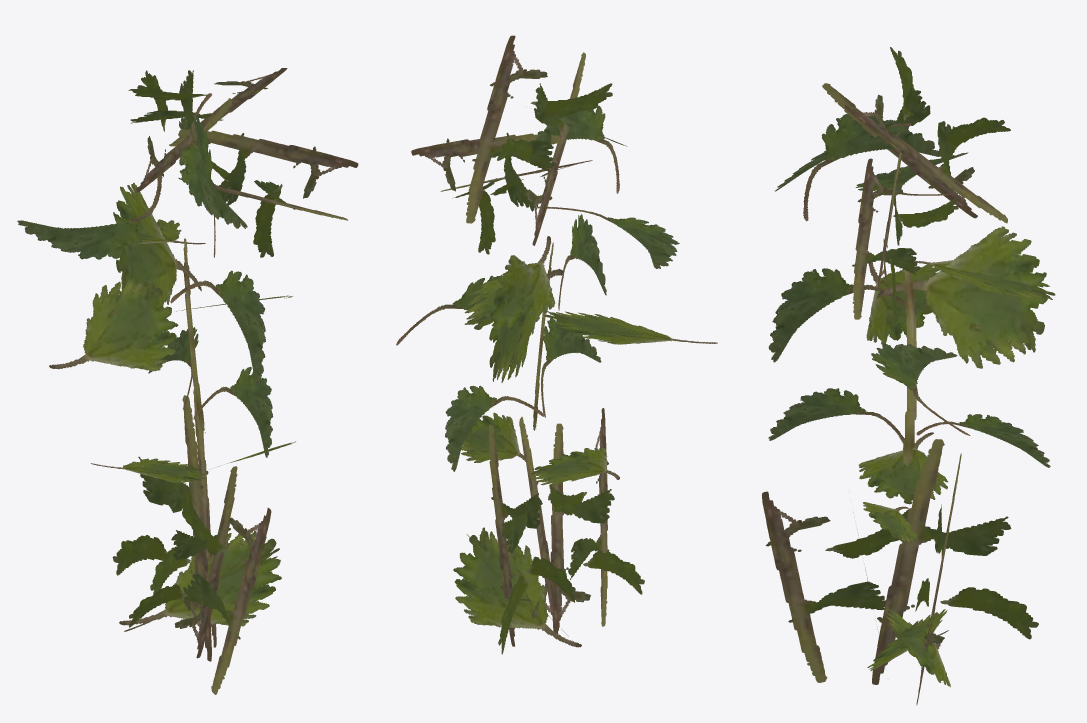
3 renders of one model, left to right at view 1: azimuth 30°, elevation 25°; view 2: azimuth 150°, elevation 25°; view 3: azimuth 270°, elevation 25°, orthographic. The views are drawn at different scales.
Parts seen in each view (by area): view 1: nettle_plant__c_lod1; view 2: nettle_plant__c_lod1; view 3: nettle_plant__c_lod1.
Part boxes in pixels (x1,y1,x2,y2): nettle_plant__c_lod1: (17,68,358,694); nettle_plant__c_lod1: (396,35,717,654); nettle_plant__c_lod1: (762,47,1055,705).
Bounding box in the file's own units: 0.1208 × 0.2331 × 0.1005.
1 material, 1 textured.
